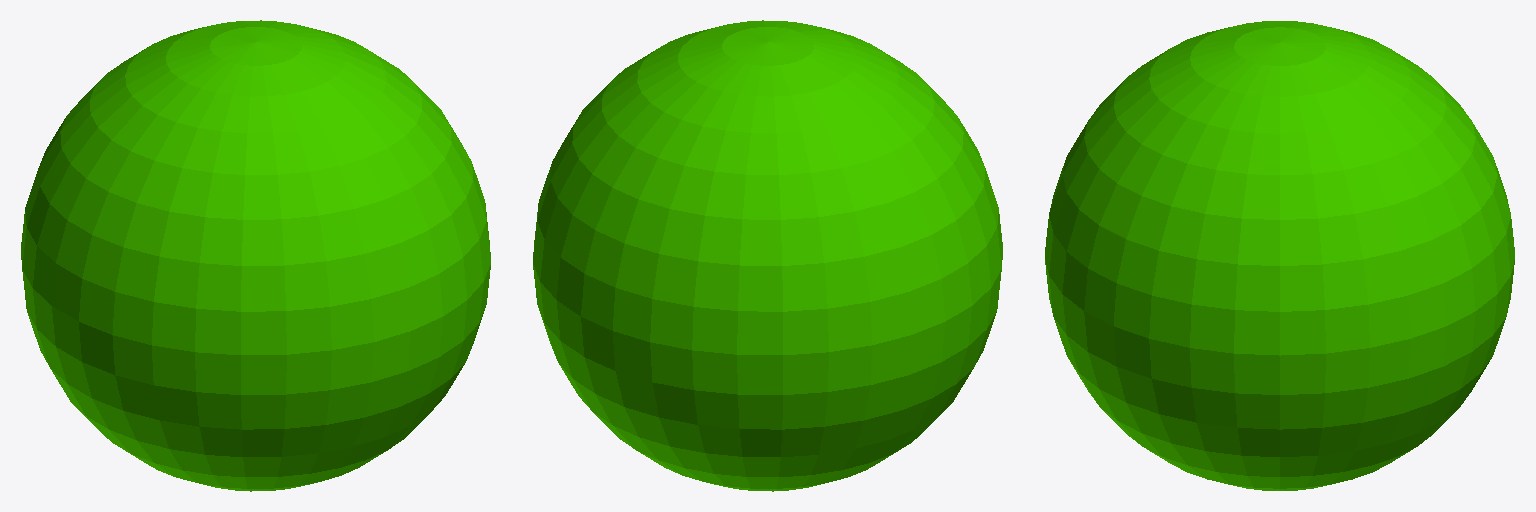
robot.urdf — tumor:
<?xml version="1.0"?>
<robot name="tumor">
  <link name="base_link">
    <visual>
      <geometry>
        <sphere radius="1.0"/>
      </geometry>
      <material name="green">
            <color rgba="0.3 0.8 0 1"/>
      </material>
    </visual>
  </link>
</robot>

--- Facts derived from the render (not from the file) ---
Views: 3 orthographic renders of the robot side by side, from view 1: azimuth 30°, elevation 25°; view 2: azimuth 150°, elevation 25°; view 3: azimuth 270°, elevation 25°.
Robot: tumor — 1 links, 0 joints (none); root link base_link; default pose: all joints at 0.
Links seen in each view (by area): view 1: base_link; view 2: base_link; view 3: base_link.
Boxes of the visible links, <box> form: base_link: <box>21,20,490,491</box>; base_link: <box>533,20,1002,491</box>; base_link: <box>1045,21,1514,490</box>.
Size in the robot's own frame: 2 by 2 by 2 metres.
Geometry: primitives only (box / cylinder / sphere), no mesh files.